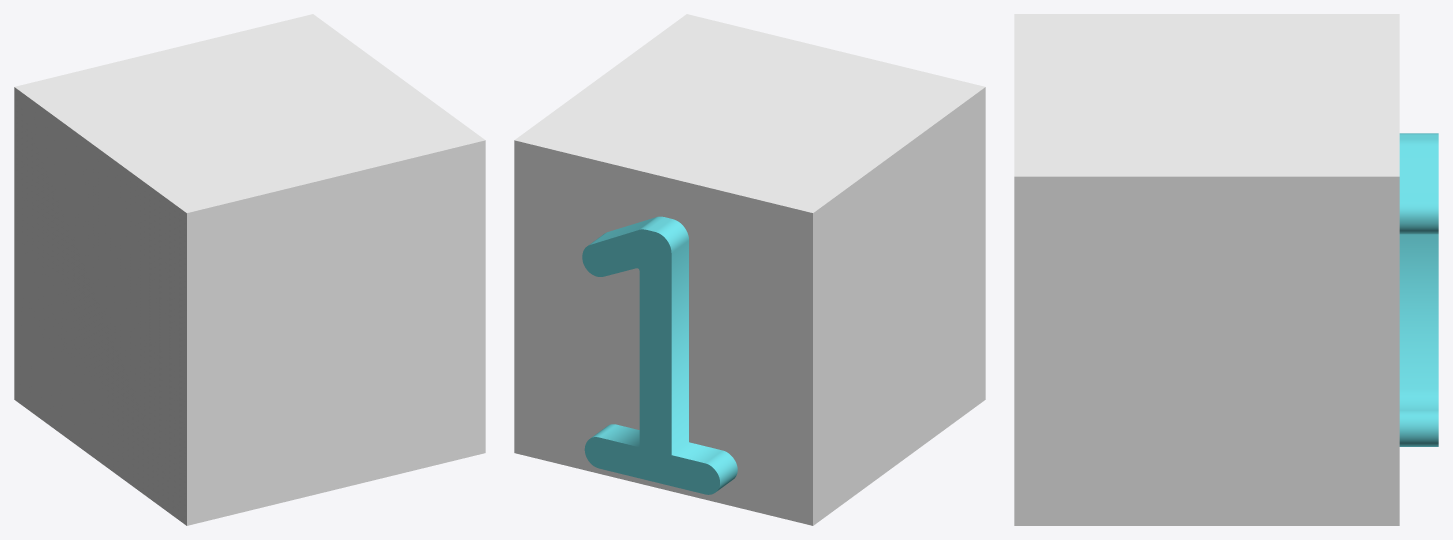
File: stage1.obj
3 renders of one model, left to right at view 1: azimuth 30°, elevation 25°; view 2: azimuth 150°, elevation 25°; view 3: azimuth 270°, elevation 25°, orthographic. The views are drawn at different scales.
Visible parts, largest first — view 1: 立方体; view 2: 立方体, テキスト; view 3: 立方体, テキスト.
Part boxes in pixels (x1,y1,x2,y2): 立方体: (14, 14, 485, 525); 立方体: (514, 14, 985, 525); テキスト: (582, 216, 737, 494); 立方体: (1014, 14, 1399, 525); テキスト: (1399, 133, 1438, 446).
Bounding box in the file's own units: 2 × 2 × 2.2.
Materials: 2 (2 with a texture image).
